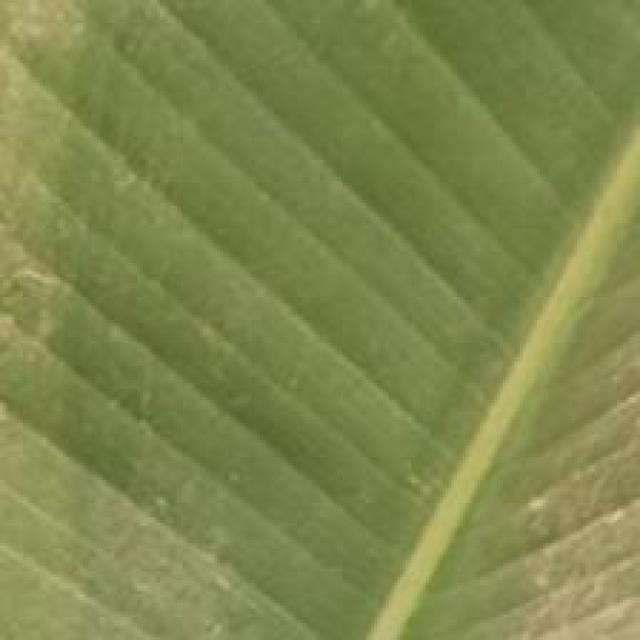Black_leaf_spot: (0, 0, 611, 628)
